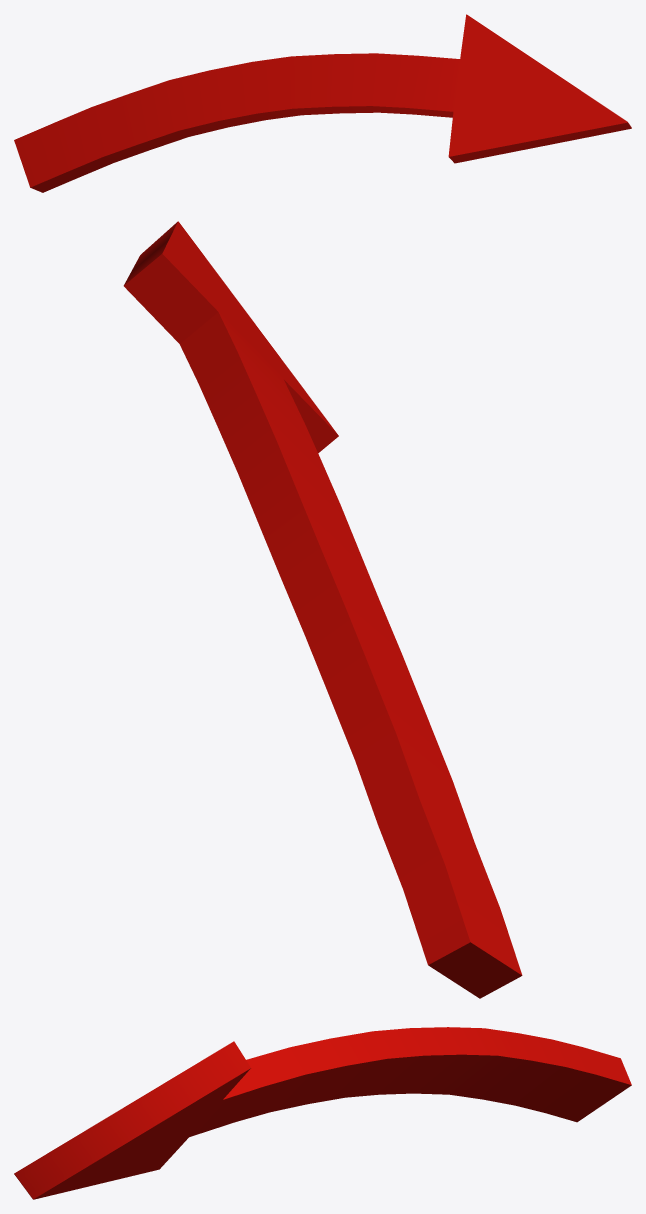
Rendered from Arrow05.fbx.
3 views of the same model, one above another, from view 1: azimuth 30°, elevation 25°; view 2: azimuth 150°, elevation 25°; view 3: azimuth 270°, elevation 25° (orthographic). The views are drawn at different scales.
Parts seen in each view (by area): view 1: Cube.104; view 2: Cube.104; view 3: Cube.104.
Boxes of the visible parts, <box> form: Cube.104: <box>14,14,631,192</box>; Cube.104: <box>123,221,522,998</box>; Cube.104: <box>14,1027,631,1199</box>.
Size of the model in its own units: 2.4 by 1.19 by 2.5.
